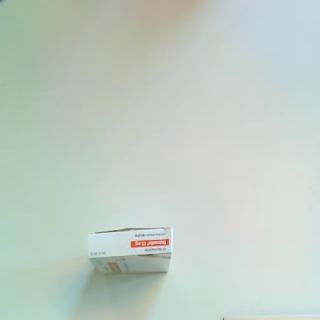dolcontin10mg: (88, 224, 175, 279)
